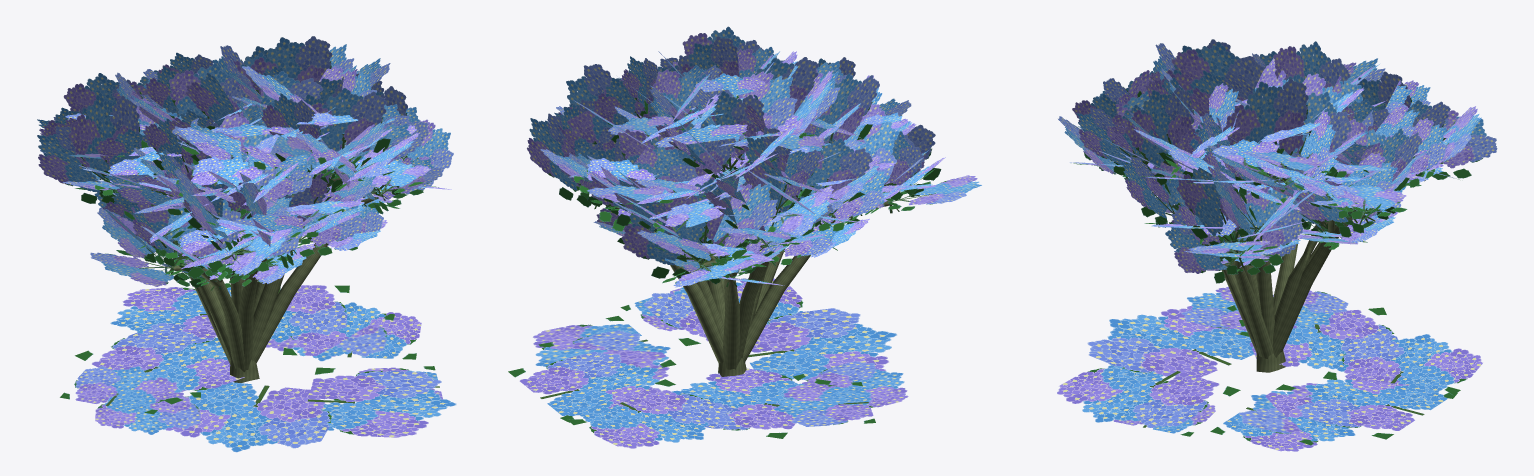
Rendered from cam_tu_cau_bush.glb.
3 renders of one model, left to right at view 1: azimuth 30°, elevation 25°; view 2: azimuth 150°, elevation 25°; view 3: azimuth 270°, elevation 25°, orthographic.
Visible parts, largest first — view 1: cam_tu_cau_bush; view 2: cam_tu_cau_bush; view 3: cam_tu_cau_bush.
Boxes of the visible parts, x1,y1,x2,y2 form: cam_tu_cau_bush: (37, 36, 456, 452); cam_tu_cau_bush: (508, 26, 981, 448); cam_tu_cau_bush: (1057, 39, 1497, 451).
Bounding box in the file's own units: 2.54 × 1.83 × 2.6.
Materials: 2 (2 with a texture image).
